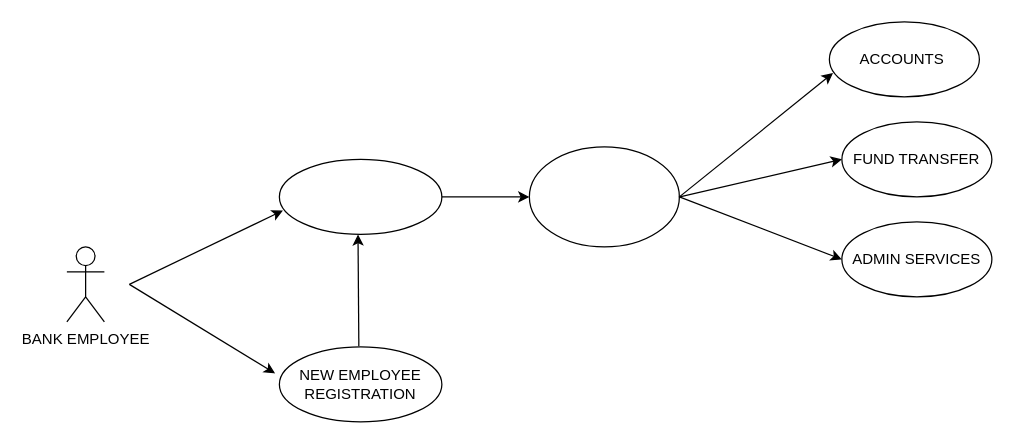
Image size: 1014x444. Some labels were removed from this diagram. Each missing label, with the centre of its shape:
"EXISTING EMPLOYEE SIGN-IN" goes at point (360, 196).
"HOMEPAGE" goes at point (603, 196).
